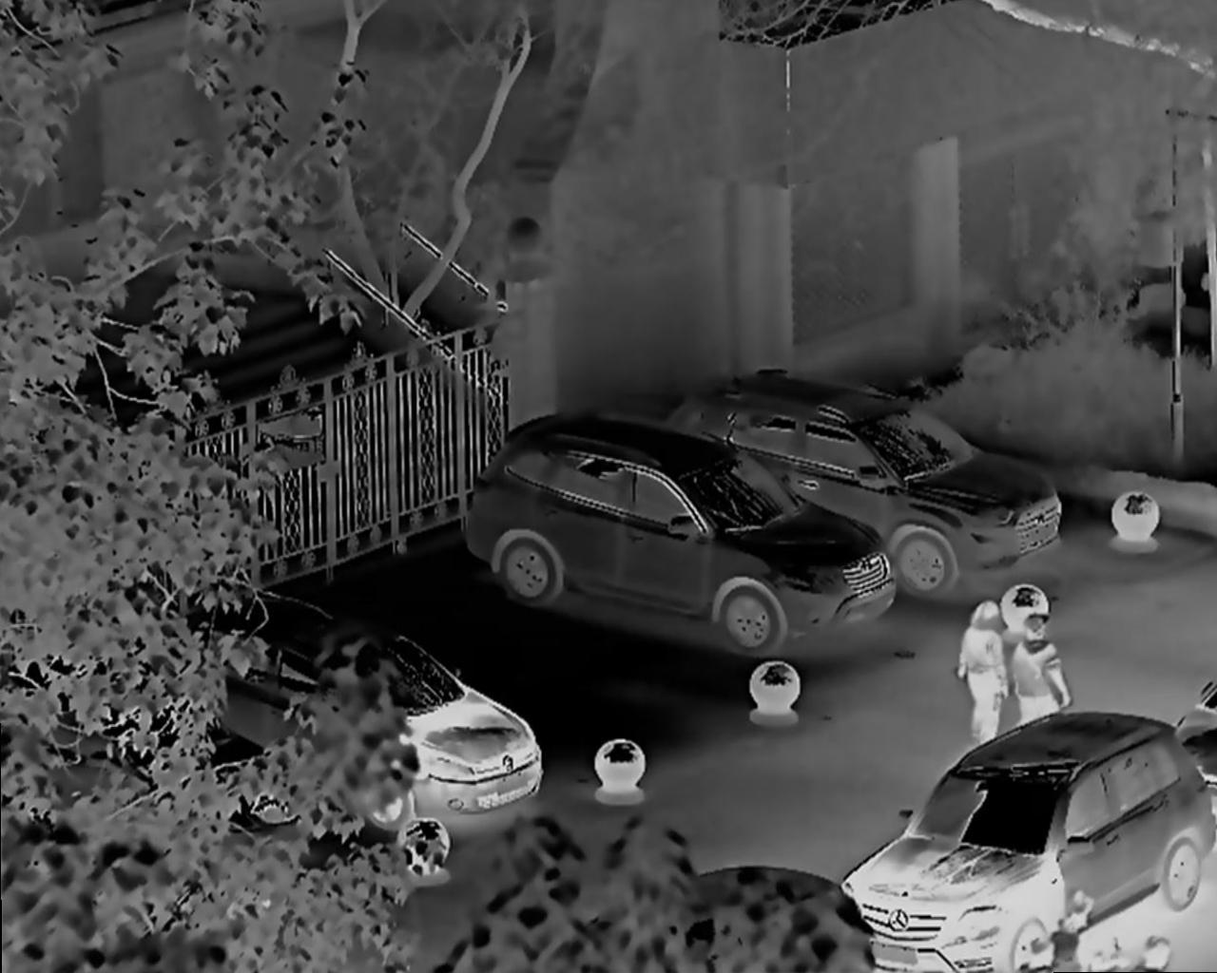person: (952, 600, 1011, 749), (1002, 615, 1068, 741)
